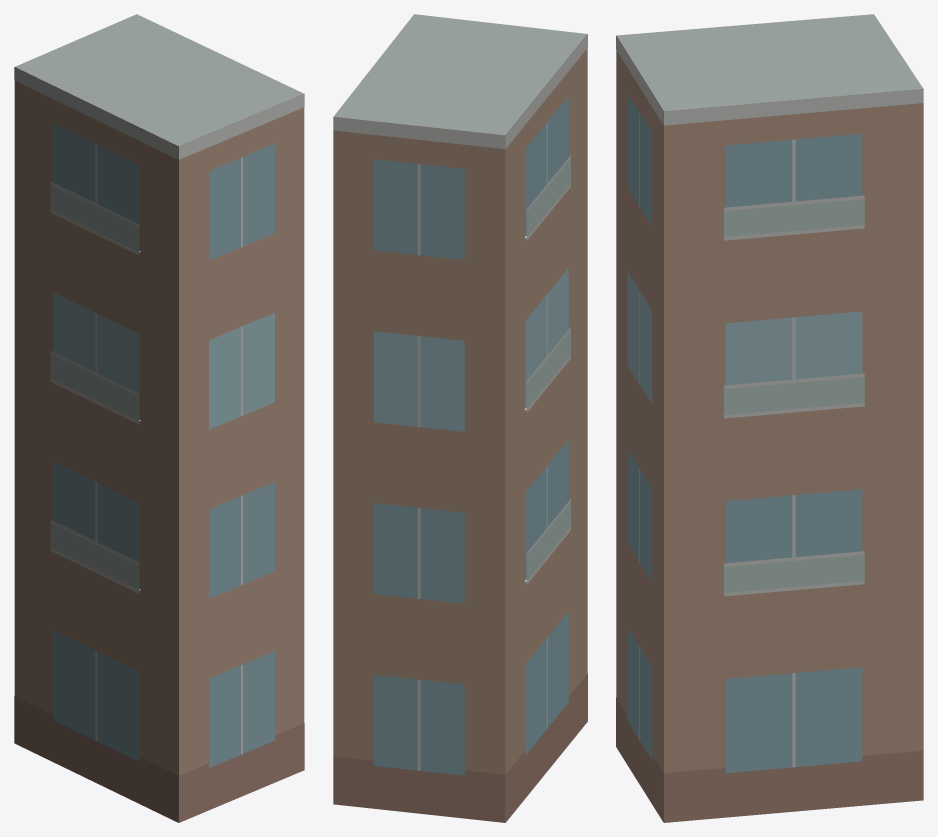
File: survey-upis-32730722.glb
3 renders of one model, left to right at view 1: azimuth 30°, elevation 25°; view 2: azimuth 150°, elevation 25°; view 3: azimuth 270°, elevation 25°, orthographic. The views are drawn at different scales.
Visible parts, largest first — view 1: survey-upis-32730722.tmp; view 2: survey-upis-32730722.tmp; view 3: survey-upis-32730722.tmp.
Part boxes in pixels (x1,y1,x2,y2): survey-upis-32730722.tmp: (14,14,304,822); survey-upis-32730722.tmp: (333,14,587,822); survey-upis-32730722.tmp: (616,14,923,822).
Bounding box in the file's own units: 3.59 × 12.2 × 4.79.
